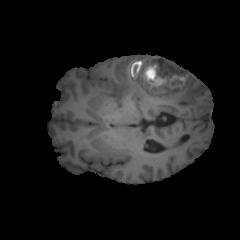glioma: (107, 55, 204, 109)
